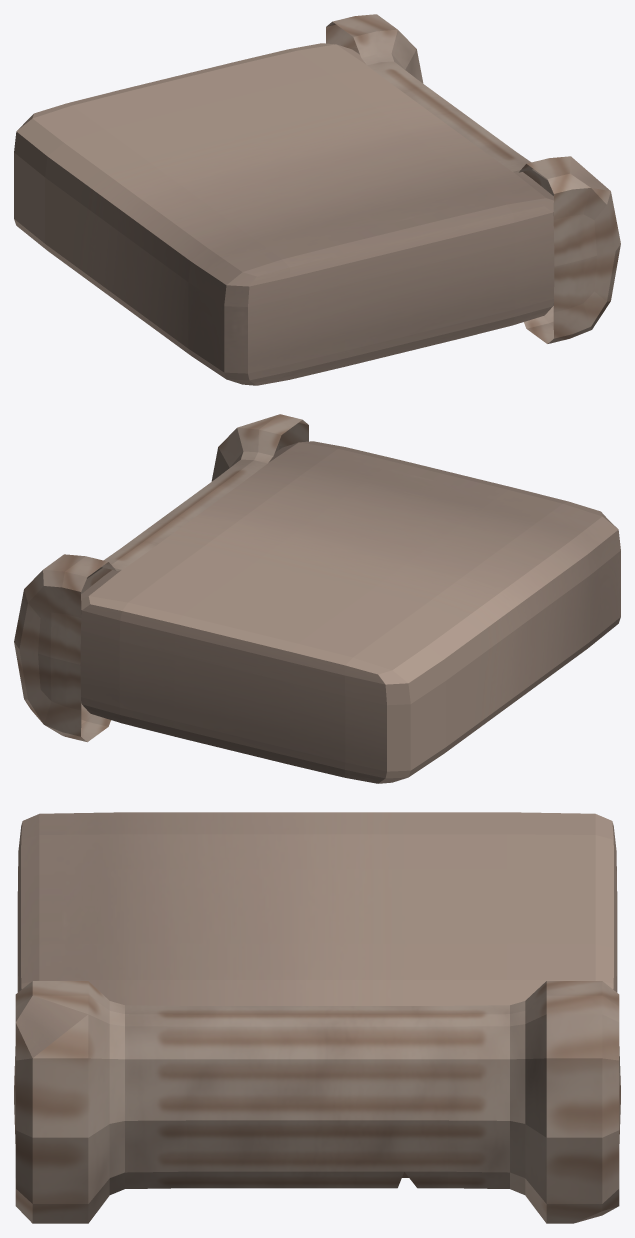
The model's file is F_Platform_6.fbx.
3 renders of one model, top to bottom at view 1: azimuth 30°, elevation 25°; view 2: azimuth 150°, elevation 25°; view 3: azimuth 270°, elevation 25°, orthographic. The views are drawn at different scales.
Visible parts, largest first — view 1: F_Platform_6; view 2: F_Platform_6; view 3: F_Platform_6.
Boxes of the visible parts, x1,y1,x2,y2 form: F_Platform_6: [14, 14, 620, 385]; F_Platform_6: [14, 414, 620, 783]; F_Platform_6: [14, 812, 620, 1223].
Size of the model in its own units: 4.27 by 1.7 by 4.26.
1 material, 1 textured.
